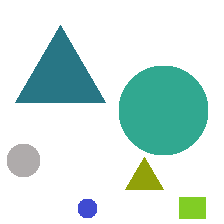circle: (119, 66, 207, 154), (7, 144, 39, 176), (78, 199, 96, 217)
rectangle: (179, 197, 205, 218)
triangle: (15, 25, 105, 102), (125, 157, 163, 189)
